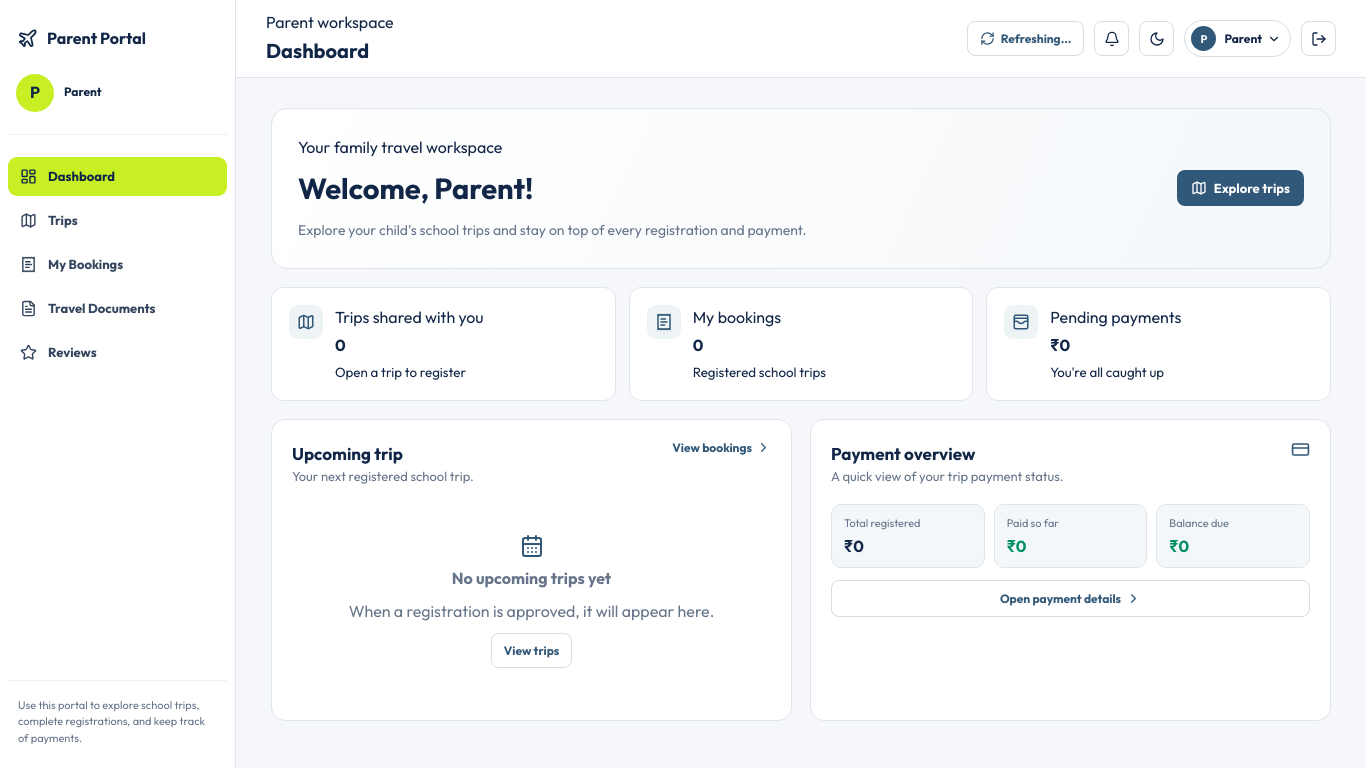
Test case: TmcParentPortal › supports theme switching and opens the parent profile from the header
Expected: the heading "Dashboard" is shown, top-left (266, 38), bottom-right (369, 63)
Click the button named "Switch to dark mode" at (1157, 38), box top-left (1139, 21), bottom-right (1174, 56)
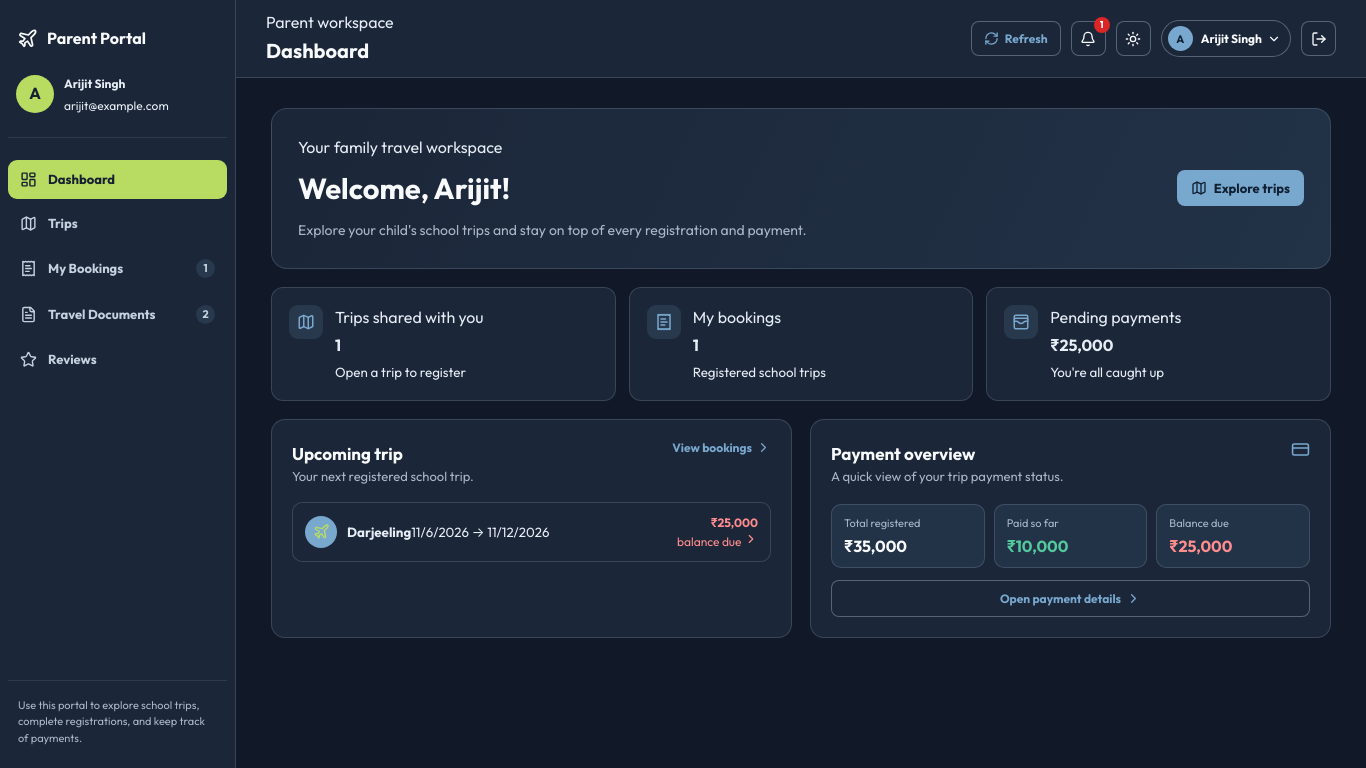
Expected: the button named "Switch to light mode" is shown, top-left (1116, 21), bottom-right (1151, 56)
Click the button with aria-label "Open profile" at (1226, 38), box top-left (1161, 20), bottom-right (1291, 57)
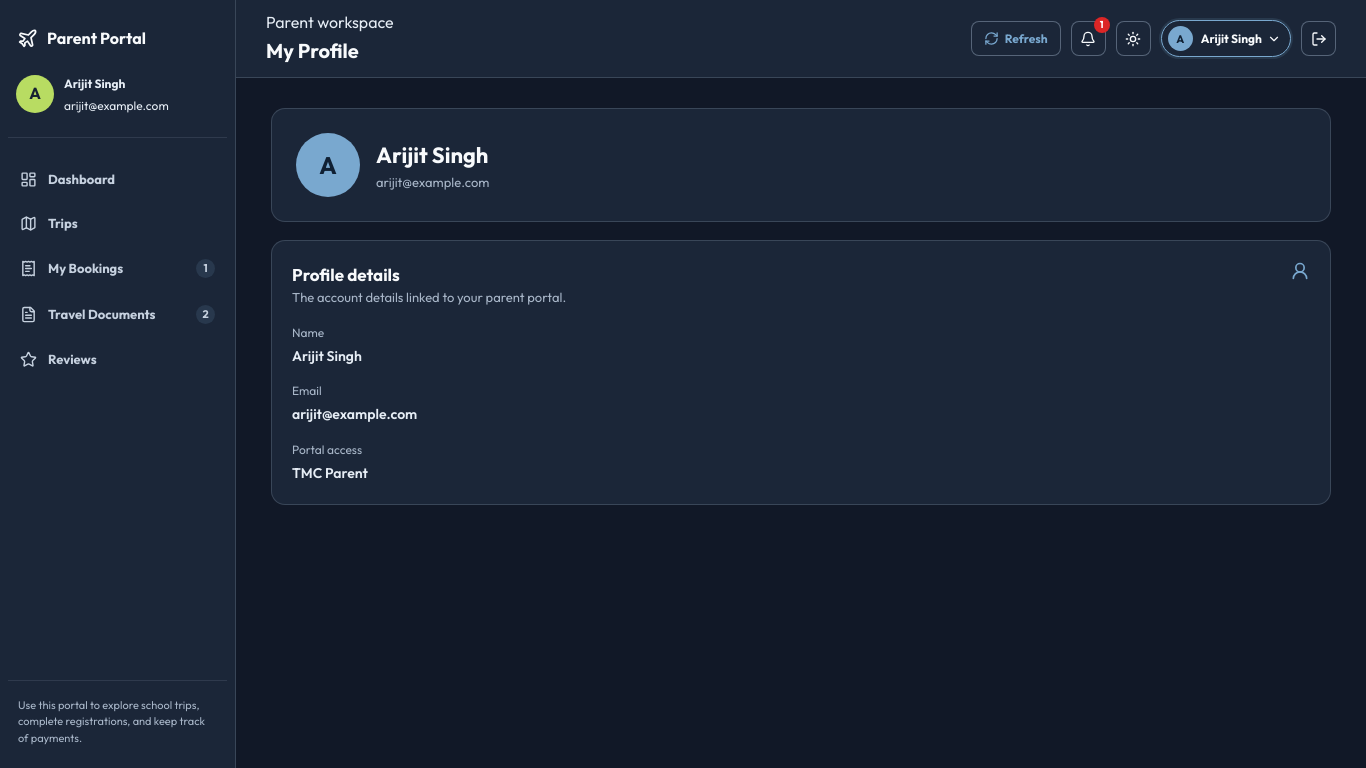
Expected: the heading "My Profile" is shown, top-left (266, 38), bottom-right (359, 63)
Expected: the heading "Profile details" is shown, top-left (292, 264), bottom-right (400, 285)
